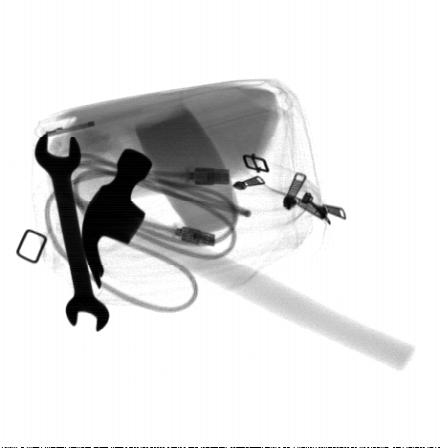Hammer: (81, 144, 420, 375)
Wrench: (35, 133, 109, 333)
